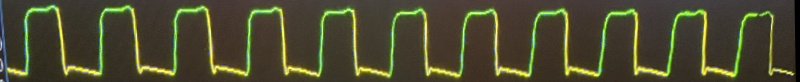normal_pressure: (0, 3, 792, 82)
